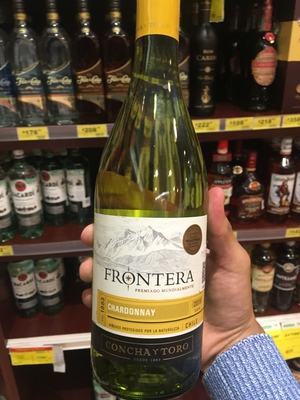frontera chardonnay: (77, 1, 227, 381)
